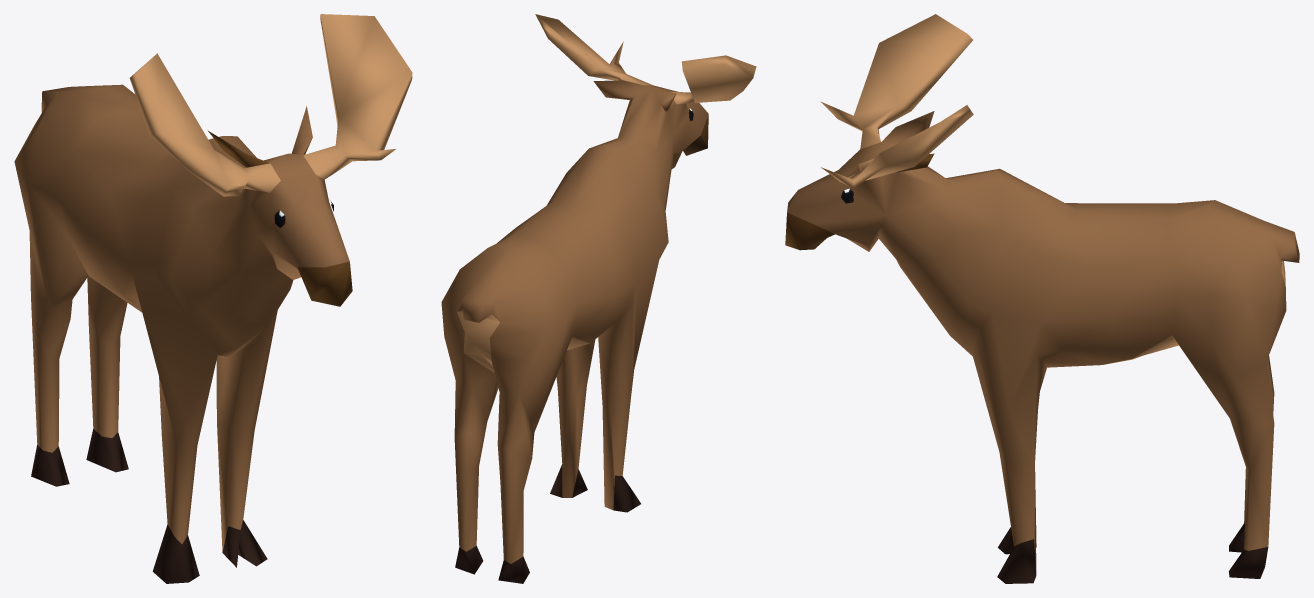
The model's file is Moose.glb.
3 renders of one model, left to right at view 1: azimuth 30°, elevation 25°; view 2: azimuth 150°, elevation 25°; view 3: azimuth 270°, elevation 25°, orthographic. The views are drawn at different scales.
Visible parts, largest first — view 1: Moose; view 2: Moose; view 3: Moose.
Boxes of the visible parts, x1,y1,x2,y2 form: Moose: (14,14,412,583); Moose: (441,14,756,583); Moose: (785,14,1299,583).
Size of what is drawn, in the model's own units: 1.15 by 2.37 by 2.23.
1 material, 1 textured.
